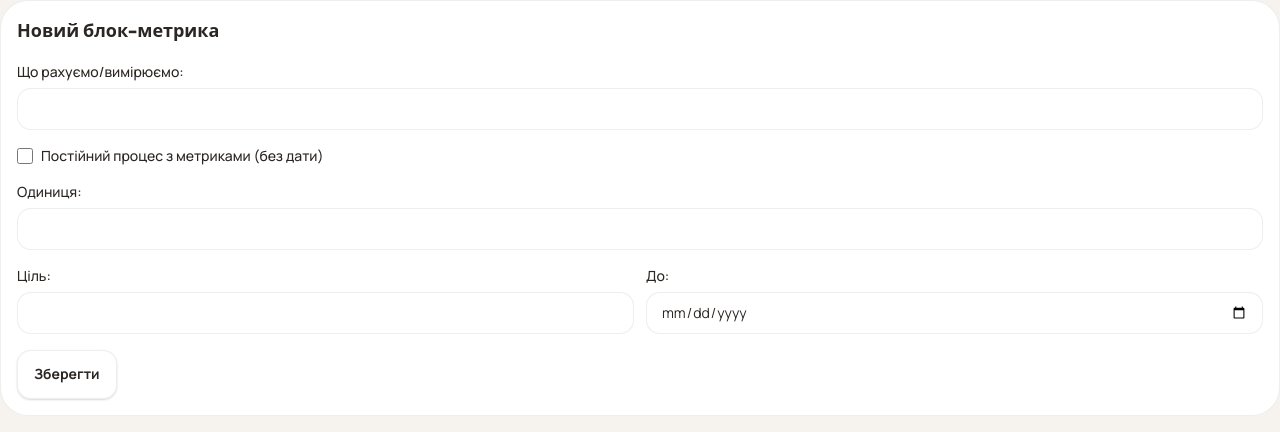
Test: MetricBlockForm (SCR-05) › hides the target-date field once "Постійний процес" is toggled on
Expected: the date field labelled "До:" is shown, [646,292,1263,334]
What coordinates should you click on to do the following:
click the checkbox labelled "Постійний процес з метриками (без дати)"
I would click on:
 (25, 156)
Its box is [17,148,33,164].
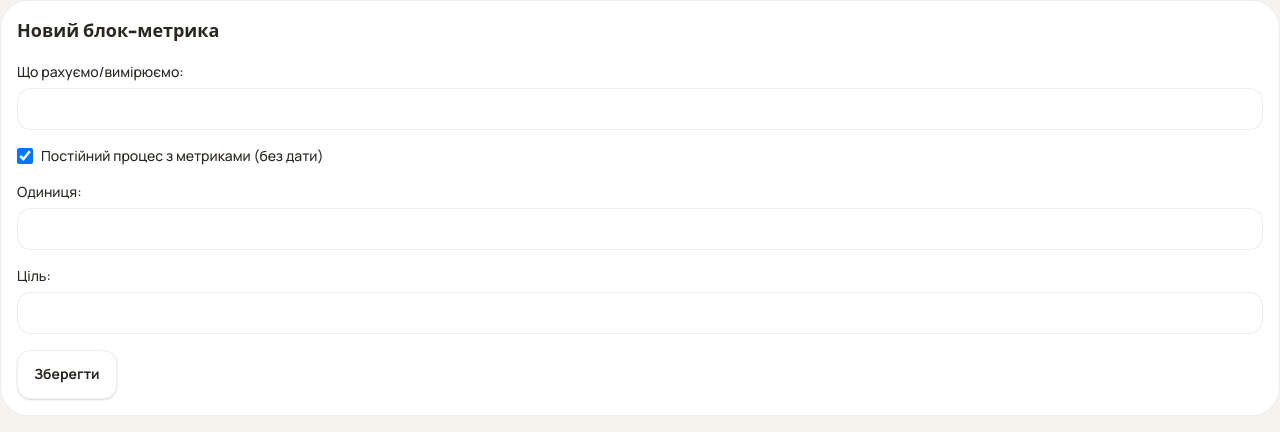
Result: the checkbox labelled "Постійний процес з метриками (без дати)" is checked at [17,148,33,164]
Result: the label labelled "До:" is gone
